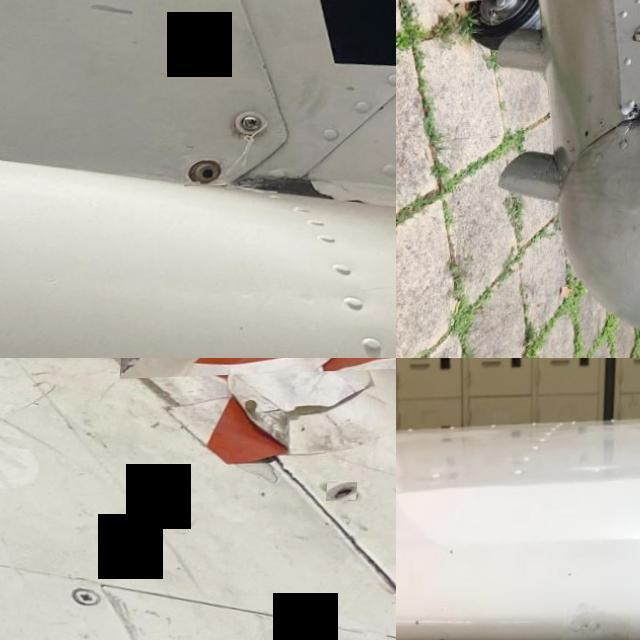Crack: (567, 601, 636, 640), (439, 635, 455, 640)
Missing_Fastener: (191, 160, 234, 189), (332, 486, 362, 506)
